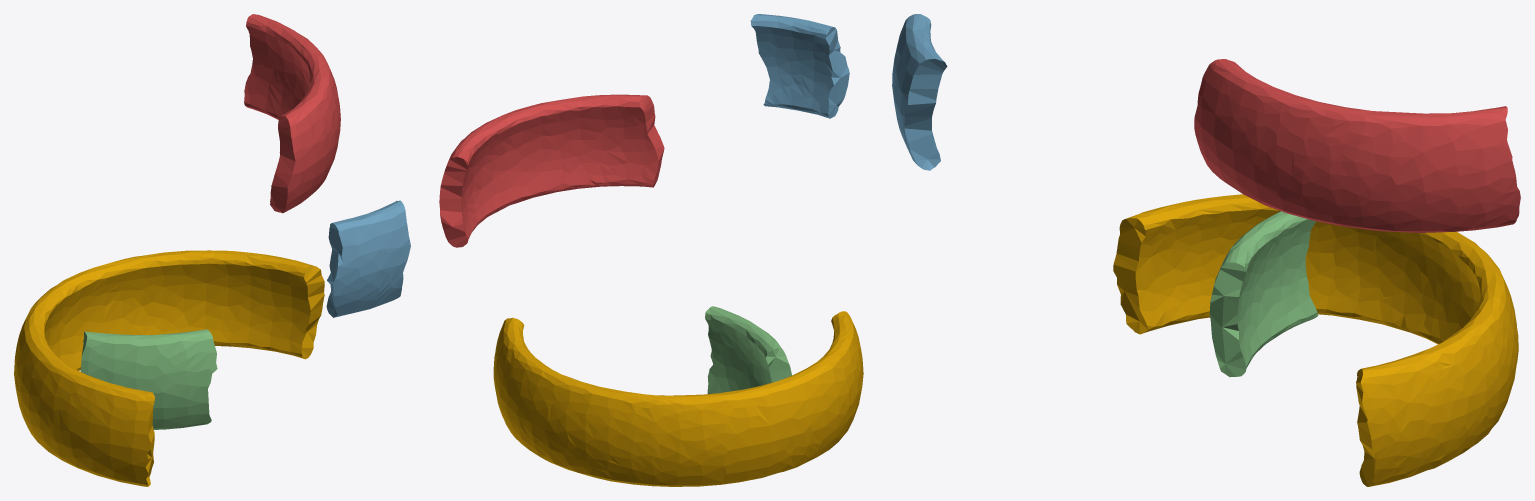
Rendered from fractured_4_4pcs_transformed.glb.
The picture shows the model from 3 angles, left to right: view 1: azimuth 30°, elevation 25°; view 2: azimuth 150°, elevation 25°; view 3: azimuth 270°, elevation 25°; orthographic projection. The views are drawn at different scales.
Parts seen in each view (by area): view 1: piece_0.obj, piece_1.obj, piece_3.obj, piece_2.obj; view 2: piece_0.obj, piece_1.obj, piece_2.obj, piece_3.obj; view 3: piece_0.obj, piece_1.obj, piece_3.obj, piece_2.obj.
Boxes of the visible parts, bbox=[...] form: piece_0.obj: bbox=[14, 250, 324, 486]; piece_1.obj: bbox=[244, 14, 340, 213]; piece_3.obj: bbox=[80, 329, 217, 429]; piece_2.obj: bbox=[326, 200, 410, 317]; piece_0.obj: bbox=[493, 311, 863, 486]; piece_1.obj: bbox=[439, 94, 664, 247]; piece_2.obj: bbox=[750, 14, 849, 118]; piece_3.obj: bbox=[705, 306, 791, 393]; piece_0.obj: bbox=[1113, 194, 1518, 486]; piece_1.obj: bbox=[1194, 59, 1520, 232]; piece_3.obj: bbox=[1209, 211, 1318, 376]; piece_2.obj: bbox=[892, 14, 947, 170].
Size of the model in its own units: 1 by 0.867 by 1.3.
